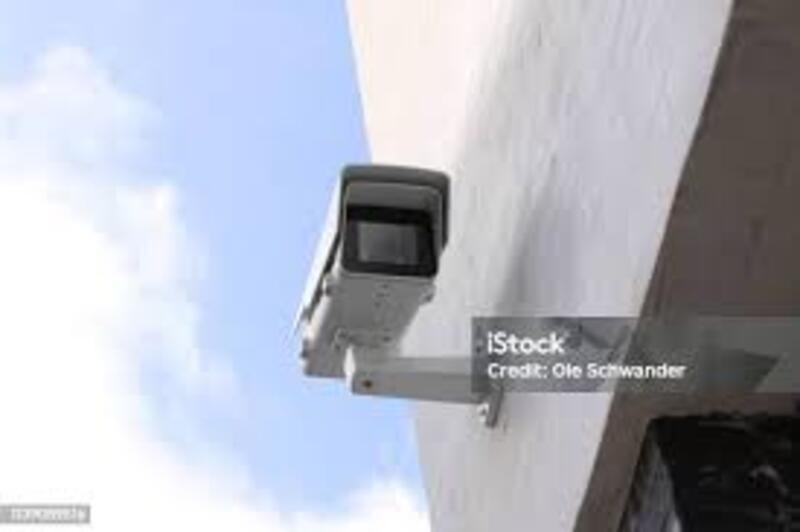box: (355, 140, 478, 363)
